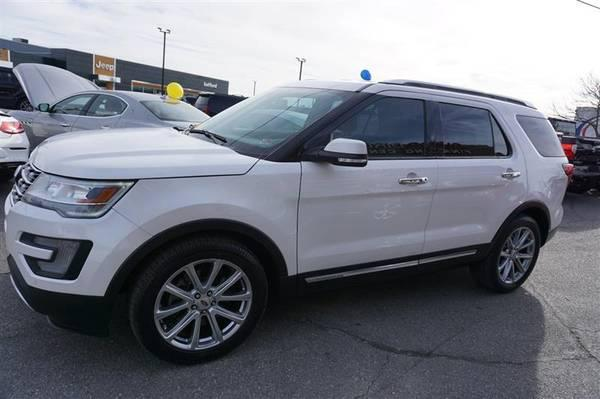Front_Bumper: (0, 193, 154, 315)
Front_Fender: (111, 151, 299, 275)
Front_Left_Door: (294, 159, 433, 268)
Front_Left_Window: (285, 91, 439, 160)
Front_Windshield: (190, 84, 354, 153)
Grille: (10, 151, 44, 201)
Hood: (31, 124, 255, 178)
Left_Headlight: (17, 172, 136, 221)
Rear_Fender: (497, 106, 568, 236)
Rear_Left_Door: (419, 157, 529, 253)
Rear_Left_Window: (437, 102, 525, 157)
Roof: (270, 78, 540, 158)
Wheel: (136, 241, 277, 364), (482, 215, 547, 288)
